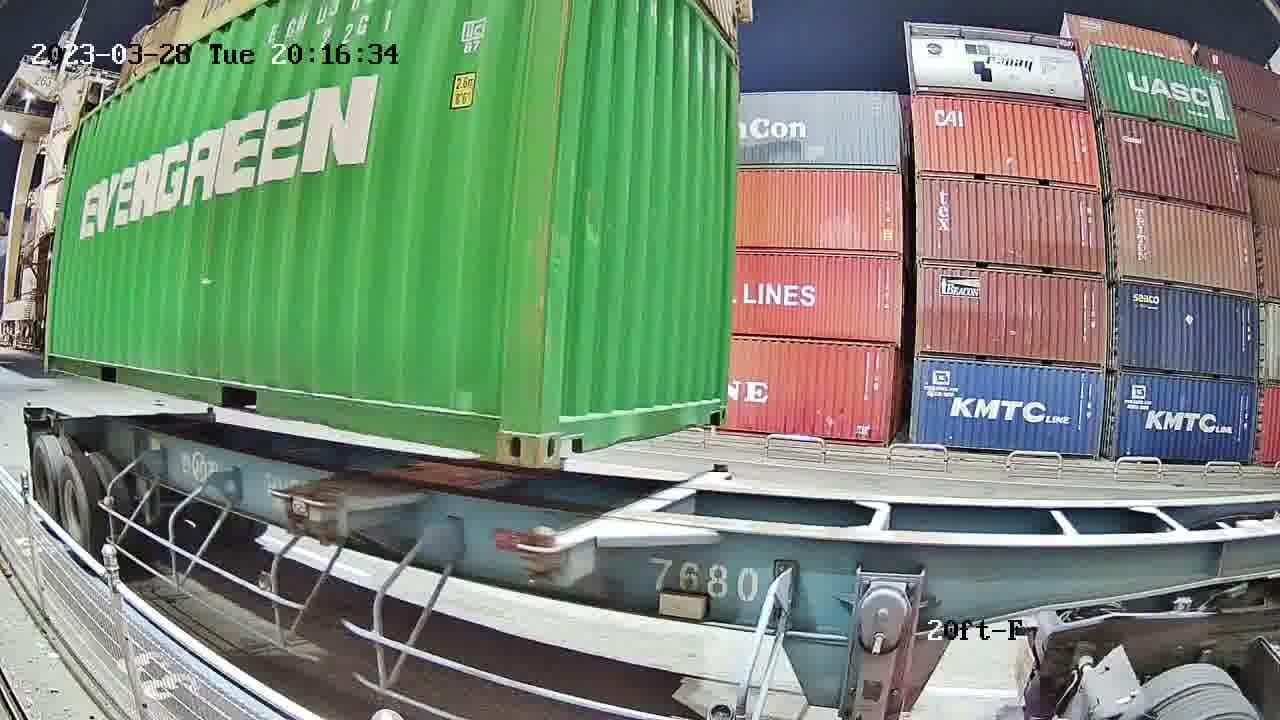Chassis: (518, 471, 733, 580)
Cone: (521, 527, 557, 585), (710, 461, 731, 475)
Hole_L: (538, 382, 593, 465)
Hole_R: (457, 375, 540, 467), (701, 386, 727, 426)
Tire: (57, 459, 94, 558), (31, 438, 57, 522)
